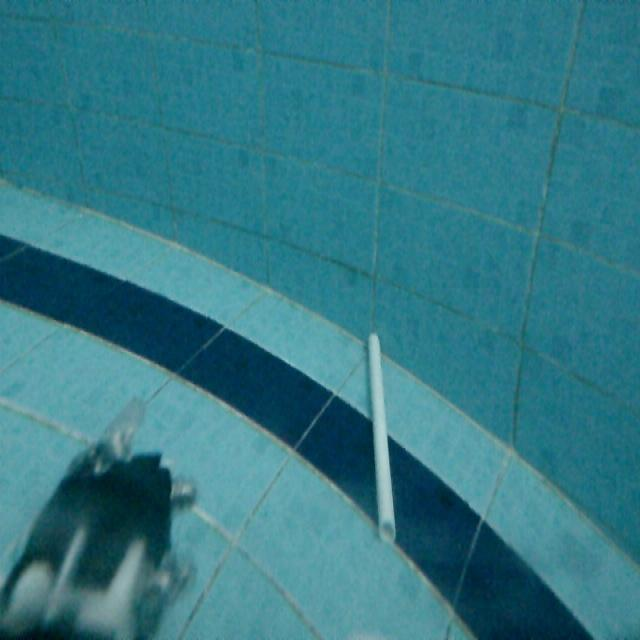Cube: (363, 325, 400, 544)
